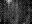person: (14, 19, 18, 23), (7, 0, 11, 4)
